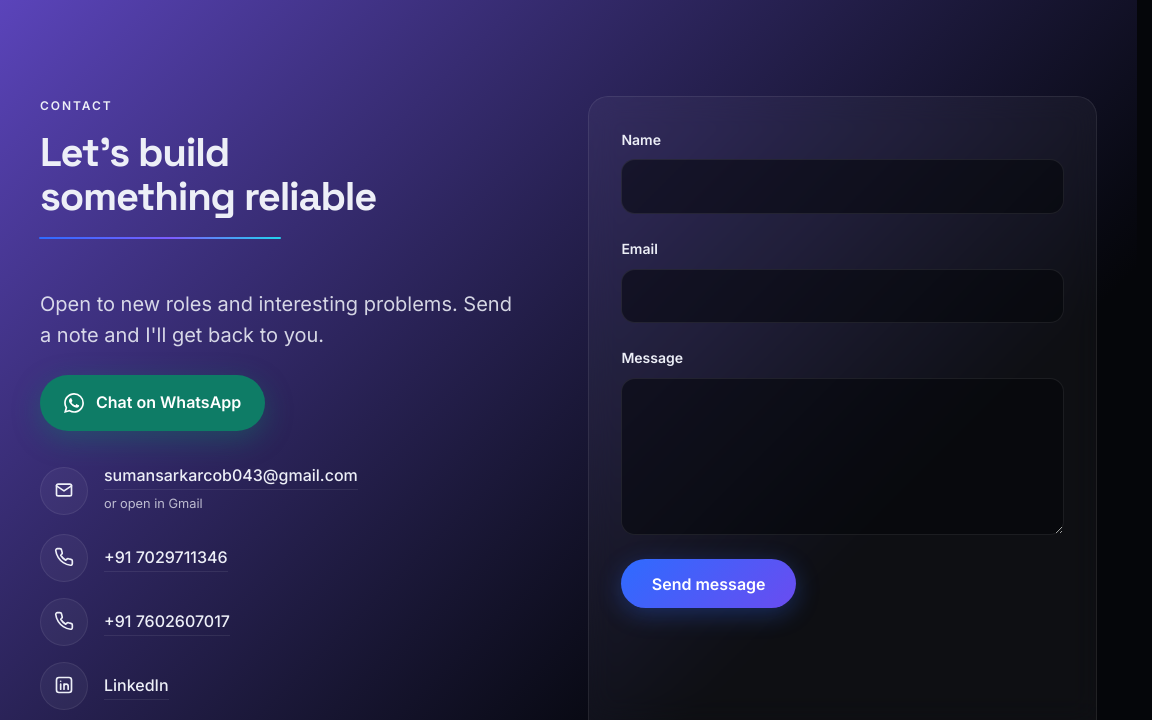
Test case: ContactComponent › rejects an invalid email address
The image size is (1152, 720).
Type "Ada" into the field with id "c-name". click: (843, 187)
box: [621,159,1064,214]
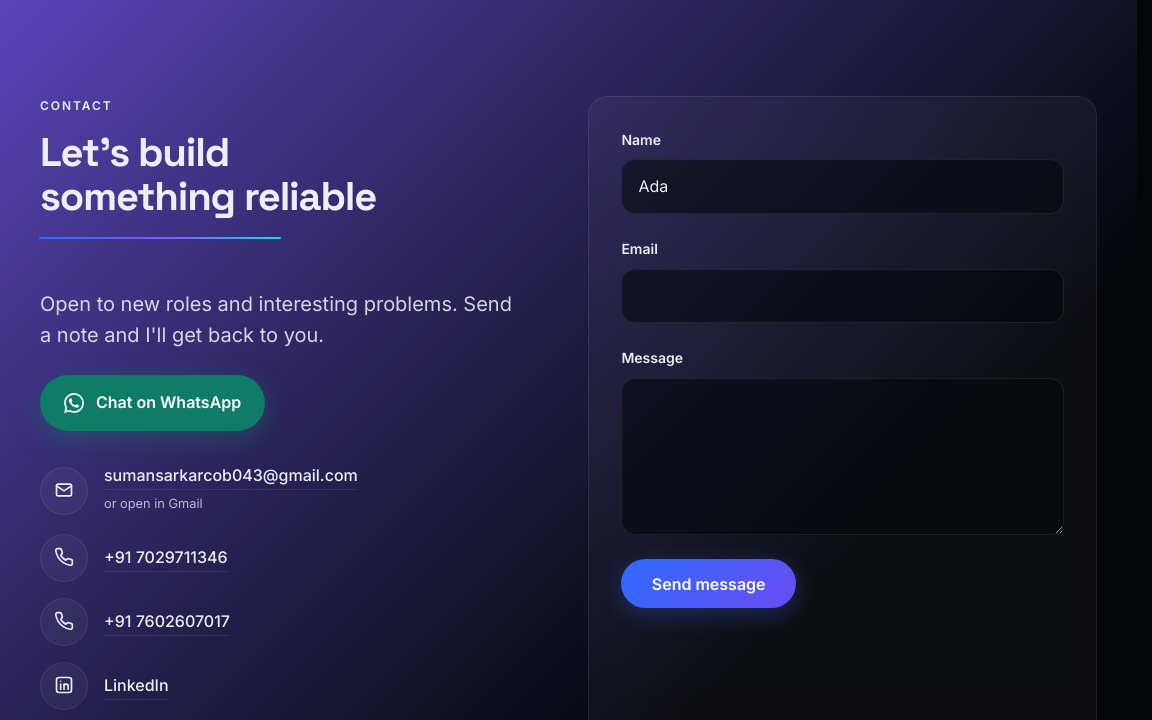
Type "not-an-email" into the field labelled "Email". click: (843, 296)
box: [621,269,1064,323]
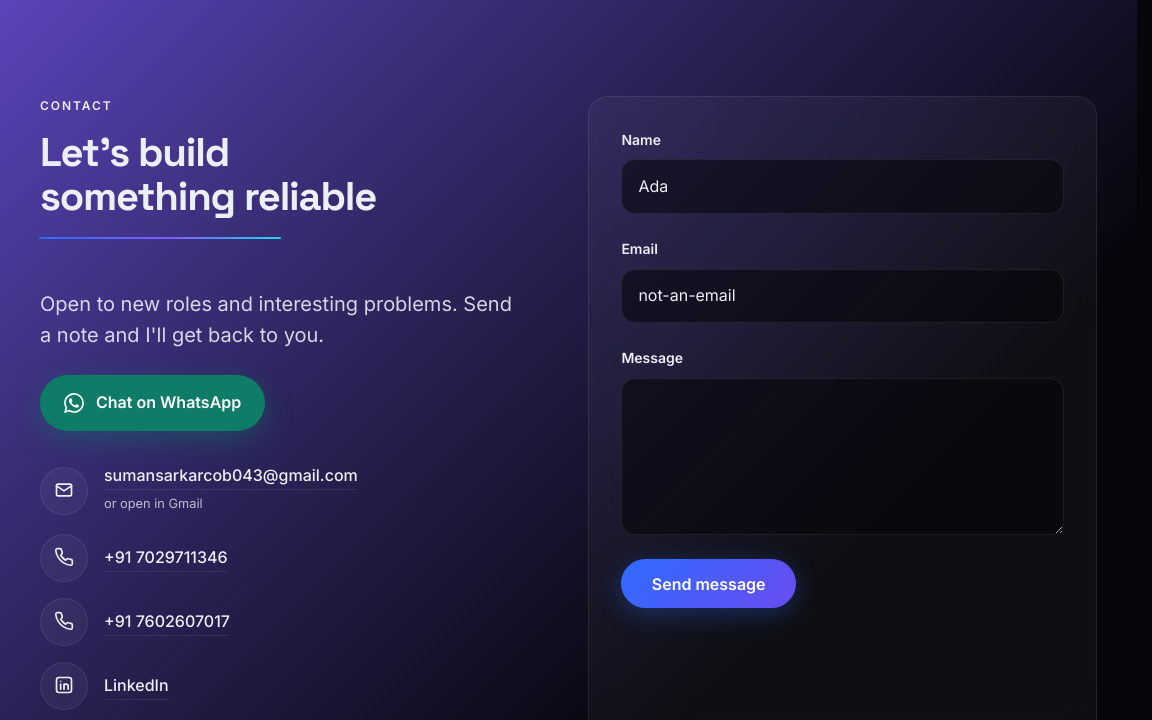
Type "A long enough message." into the text box labelled "Message". click: (843, 456)
box: [621,378,1064,535]
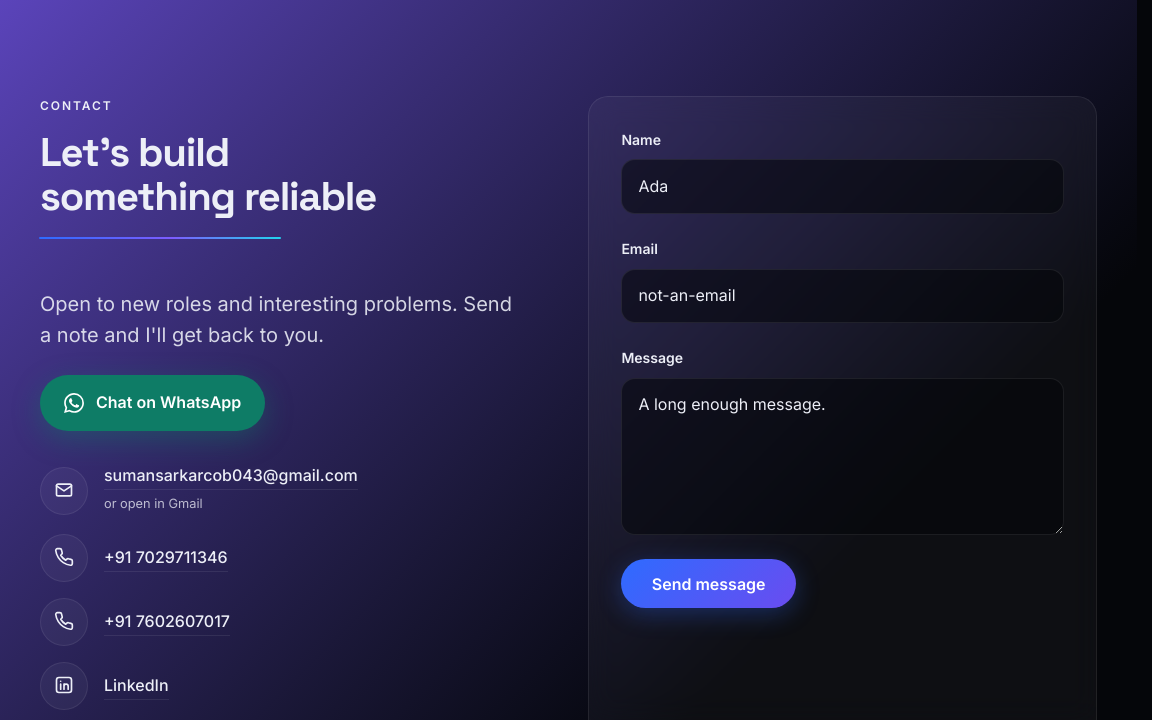
Submit the form, box [621,129,1064,632]
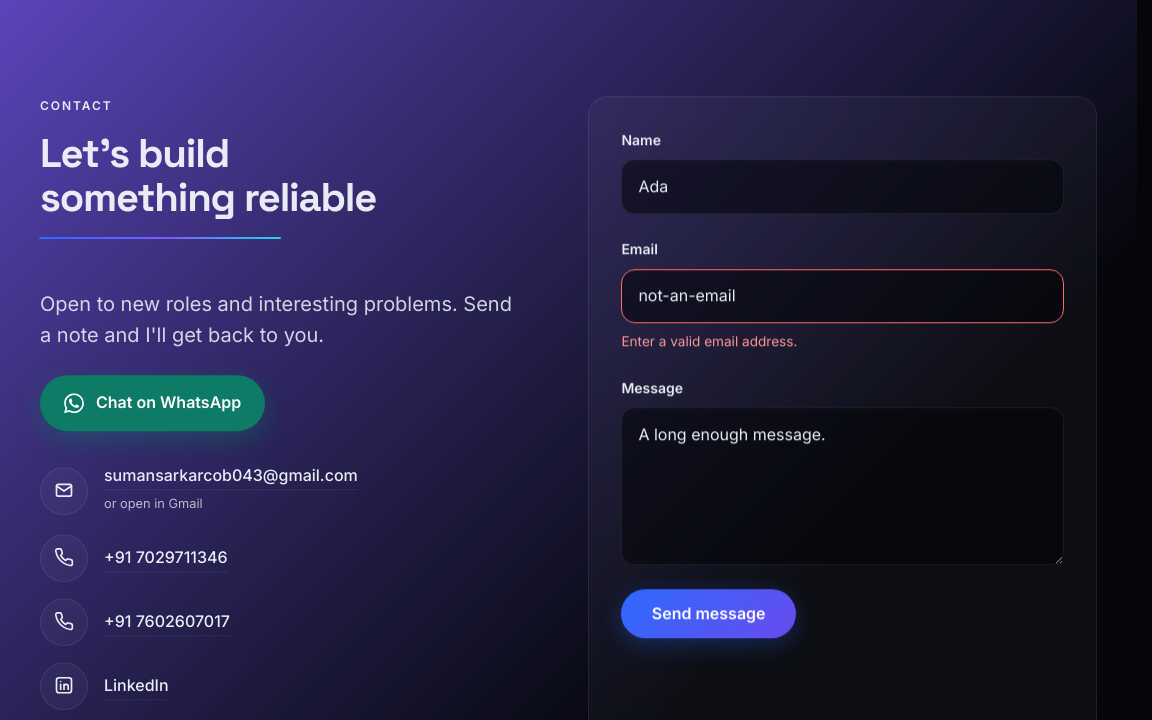
Now the message with id "c-email-error" shows "valid email", box [621,334,797,350]
